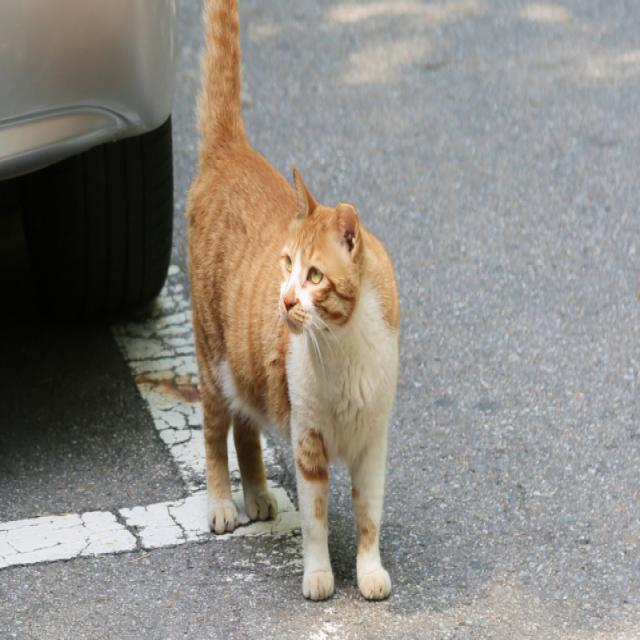cat: (158, 0, 404, 616)
